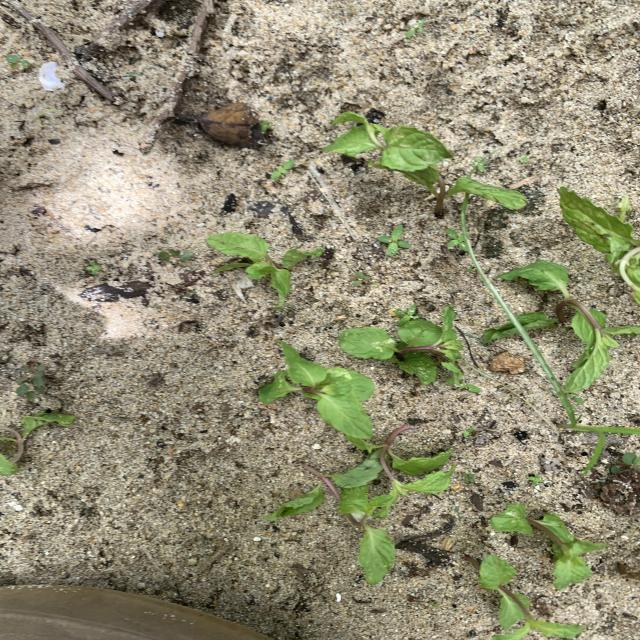crop: (324, 112, 526, 215), (265, 450, 395, 584), (497, 260, 628, 385), (258, 342, 374, 440), (490, 504, 605, 587), (340, 306, 462, 384), (349, 426, 452, 518), (561, 187, 639, 303), (477, 555, 583, 639), (208, 232, 322, 307), (1, 412, 73, 473)
weed: (459, 204, 638, 463), (16, 364, 45, 398), (378, 225, 409, 255), (158, 249, 193, 262), (270, 161, 294, 179), (5, 54, 30, 70), (393, 305, 415, 323), (406, 20, 425, 37), (352, 272, 375, 286), (84, 262, 103, 276), (472, 157, 487, 171), (462, 473, 475, 482), (528, 475, 542, 483)
